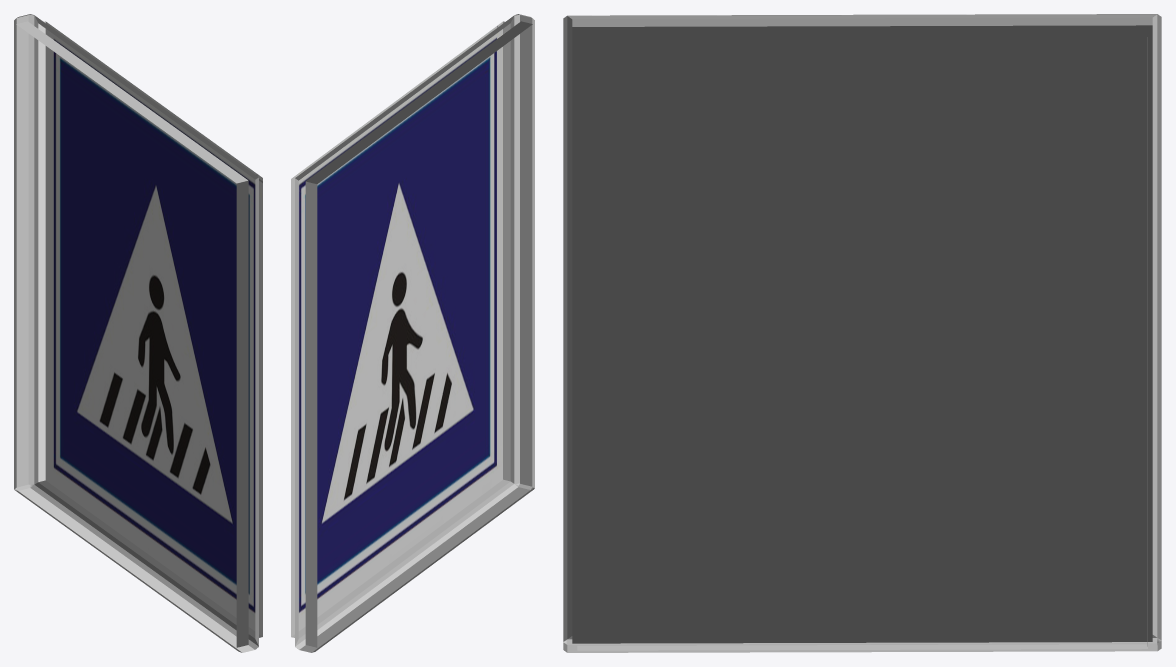
The picture shows the model from 3 angles, left to right: view 1: azimuth 30°, elevation 25°; view 2: azimuth 150°, elevation 25°; view 3: azimuth 270°, elevation 25°; orthographic projection. The views are drawn at different scales.
Visible parts, largest first — view 1: model20; view 2: model20; view 3: model20.
Boxes of the visible parts, box(x1,y1,x2,y2) form: model20: box(14, 14, 262, 652); model20: box(291, 14, 534, 652); model20: box(563, 14, 1161, 652).
Size of the model in its own units: 0.0926 by 1.38 by 1.19.
Materials: 2 (1 with a texture image).
